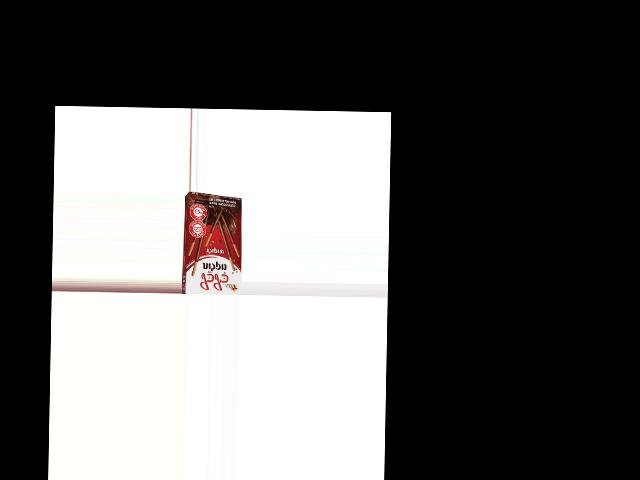chocolate: (182, 198, 243, 294)
